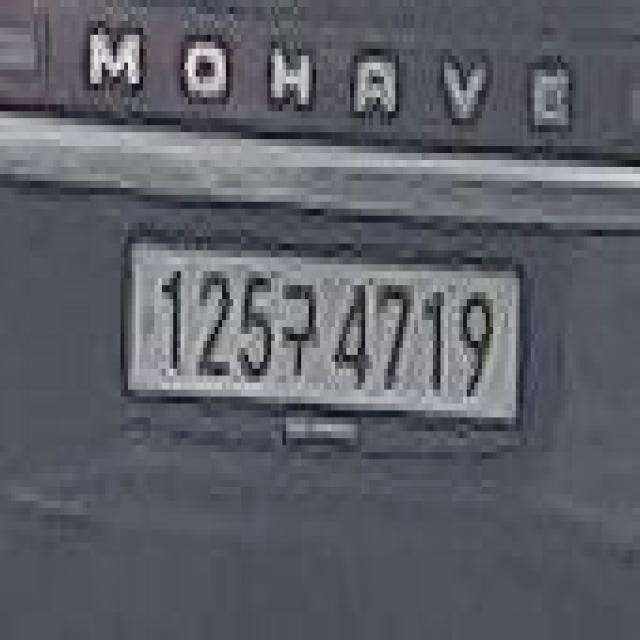illegal_plate: (119, 223, 532, 463)
